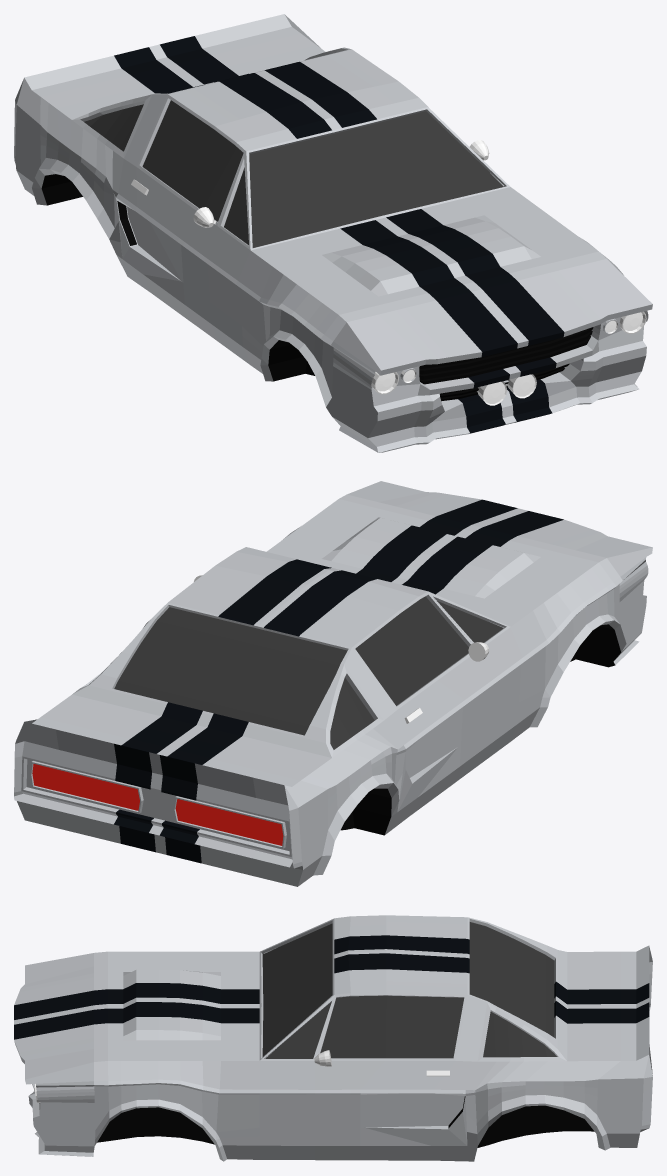
File: eleanor.gltf
The picture shows the model from 3 angles, top to bottom: view 1: azimuth 30°, elevation 25°; view 2: azimuth 150°, elevation 25°; view 3: azimuth 270°, elevation 25°; orthographic projection. The views are drawn at different scales.
Visible parts, largest first — view 1: Cube; view 2: Cube; view 3: Cube.
Boxes of the visible parts, <box> form: Cube: <box>14,14,652,452</box>; Cube: <box>14,481,652,886</box>; Cube: <box>14,915,652,1161</box>.
Bounding box in the file's own units: 1.06 × 0.5998 × 2.22.
